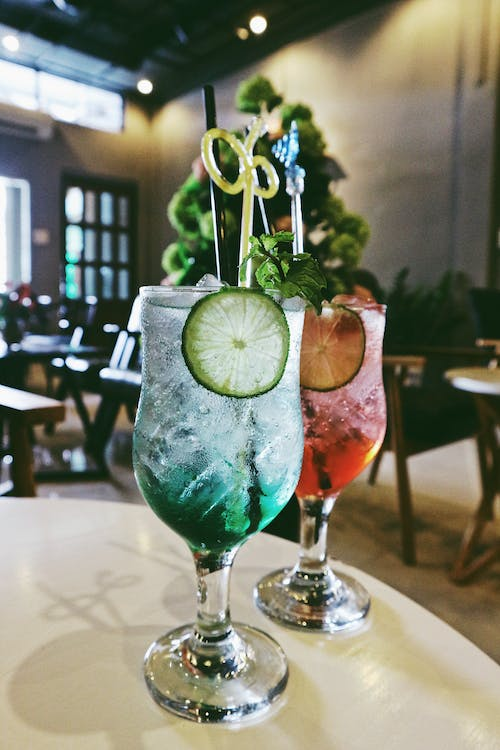alcohol: (129, 281, 305, 724), (251, 299, 392, 635)
